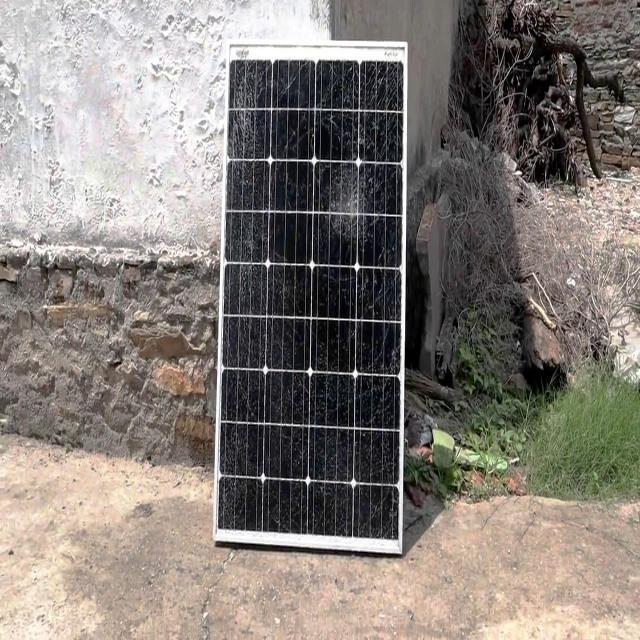faulty: (217, 30, 405, 554)
